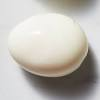egg: (7, 11, 89, 79)
